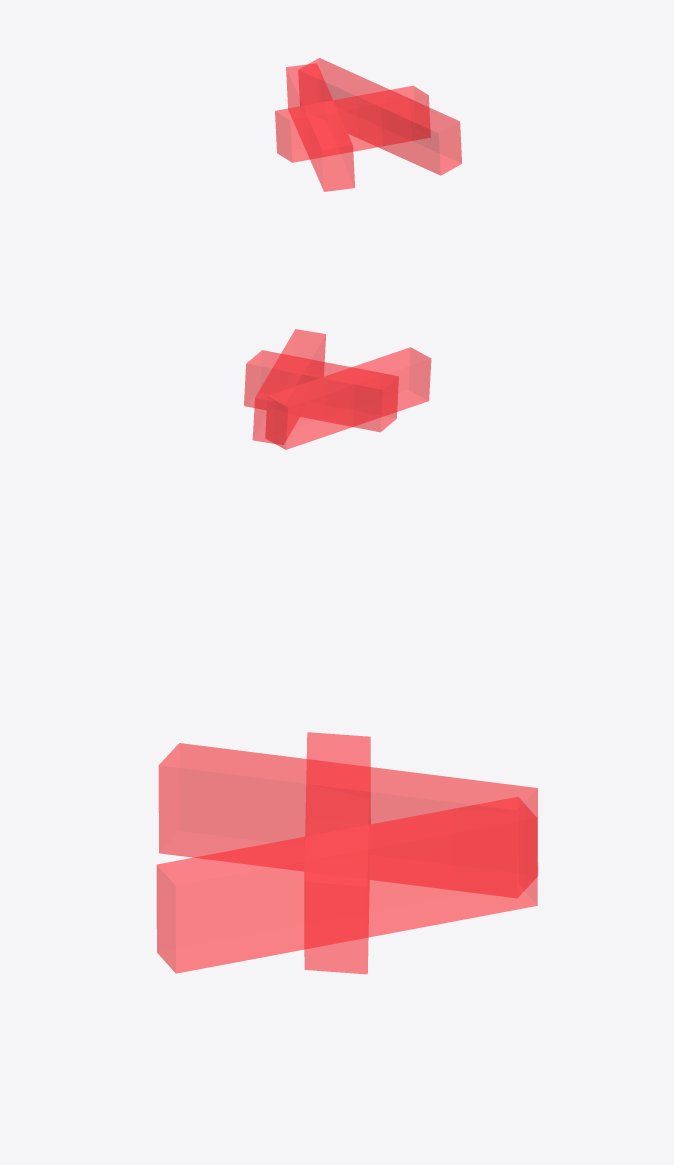
The picture shows the model from 3 angles, top to bottom: view 1: azimuth 30°, elevation 25°; view 2: azimuth 150°, elevation 25°; view 3: azimuth 270°, elevation 25°; orthographic projection. The views are drawn at different scales.
Visible parts, largest first — view 1: Cube.018; view 2: Cube.018; view 3: Cube.018.
Part boxes in pixels (x1=…): Cube.018: x1=275, y1=58, x2=461, y2=191; Cube.018: x1=244, y1=329, x2=431, y2=449; Cube.018: x1=156, y1=732, x2=538, y2=974.
Bounding box in the file's own units: 400 × 38.52 × 128.
